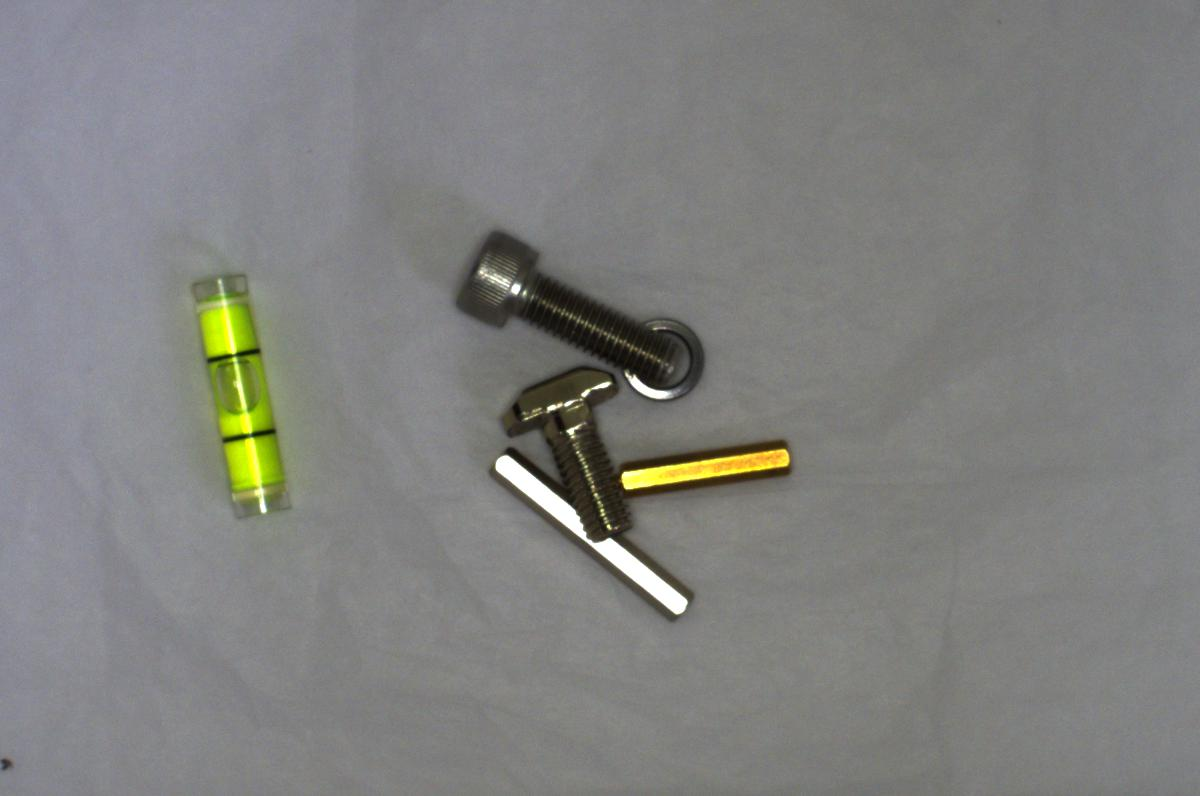Double hexagonal column: (484, 445, 706, 626)
Hexagon pillar: (605, 435, 801, 495)
Hexagon screw: (457, 235, 677, 386)
Horizontal bubble: (179, 268, 288, 526)
Spring washer: (621, 306, 712, 409)
T-shaped screw: (499, 354, 641, 541)
